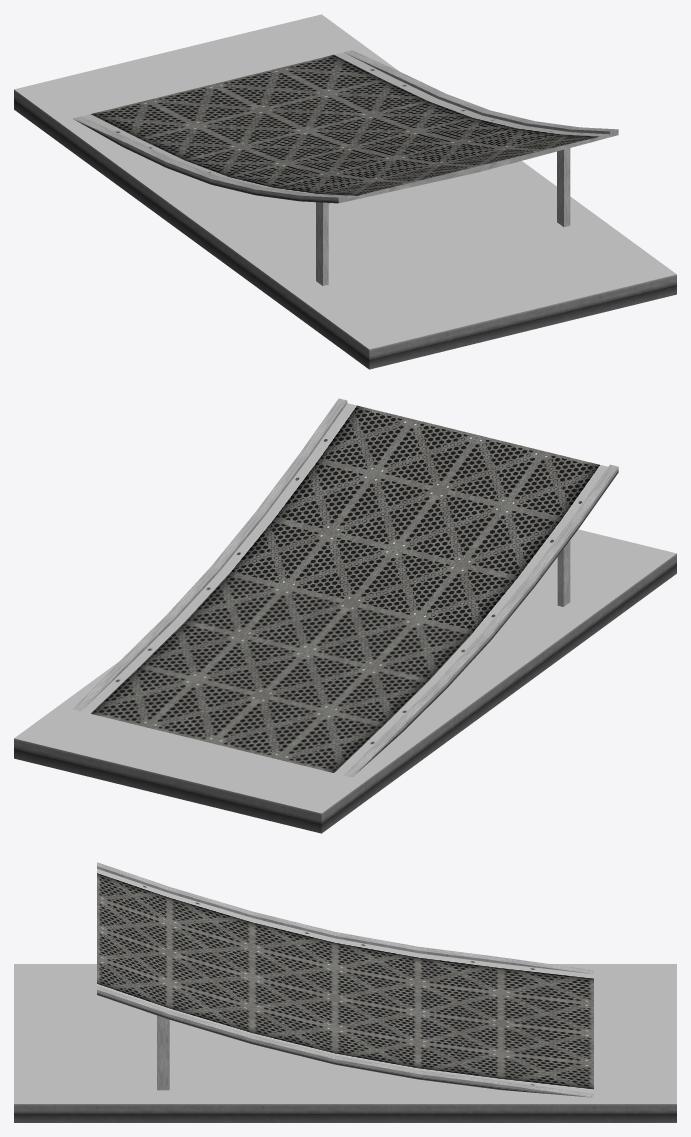
File: Jump01.fbx
The picture shows the model from 3 angles, top to bottom: view 1: azimuth 30°, elevation 25°; view 2: azimuth 150°, elevation 25°; view 3: azimuth 270°, elevation 25°; orthographic projection. The views are drawn at different scales.
Visible parts, largest first — view 1: Empty_Mesh; view 2: Empty_Mesh; view 3: Empty_Mesh.
Part boxes in pixels (x1,y1,x2,y2): Empty_Mesh: (14, 14, 676, 369); Empty_Mesh: (14, 398, 676, 833); Empty_Mesh: (14, 862, 676, 1122).
Bounding box in the file's own units: 1600 × 676 × 3200.
